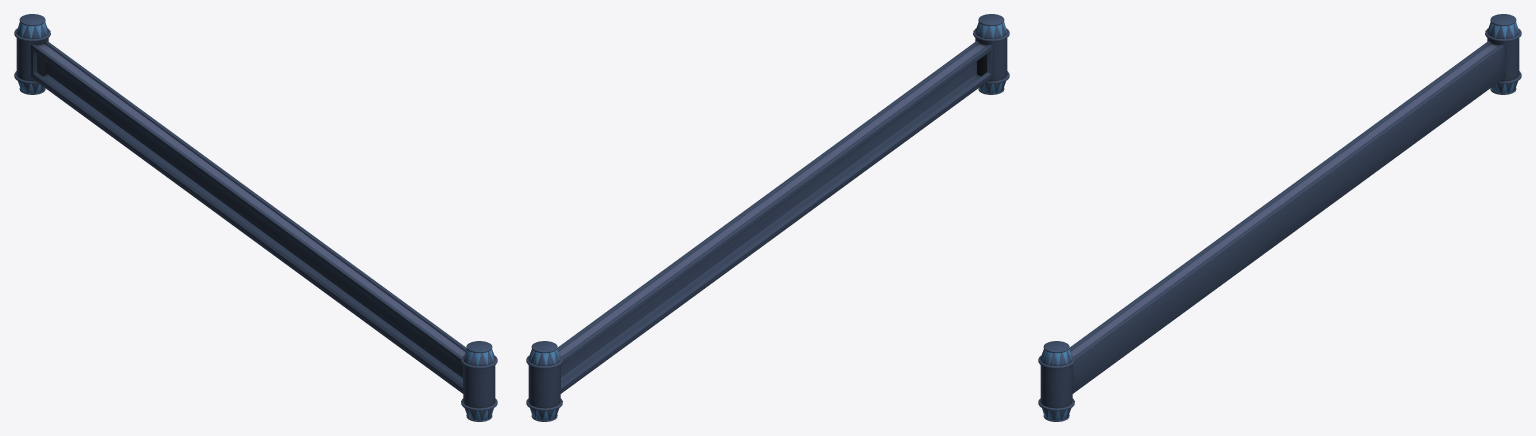
Rendered from SM_RunSideScreen01.fbx.
The picture shows the model from 3 angles, left to right: view 1: azimuth 30°, elevation 25°; view 2: azimuth 150°, elevation 25°; view 3: azimuth 330°, elevation 25°; orthographic projection.
Parts seen in each view (by area): view 1: SM_RunSideScreen01; view 2: SM_RunSideScreen01; view 3: SM_RunSideScreen01.
Part boxes in pixels (x1,y1,x2,y2): SM_RunSideScreen01: [14, 14, 497, 421]; SM_RunSideScreen01: [526, 14, 1009, 421]; SM_RunSideScreen01: [1038, 14, 1521, 421].
Bounding box in the file's own units: 196 × 414 × 4960.
